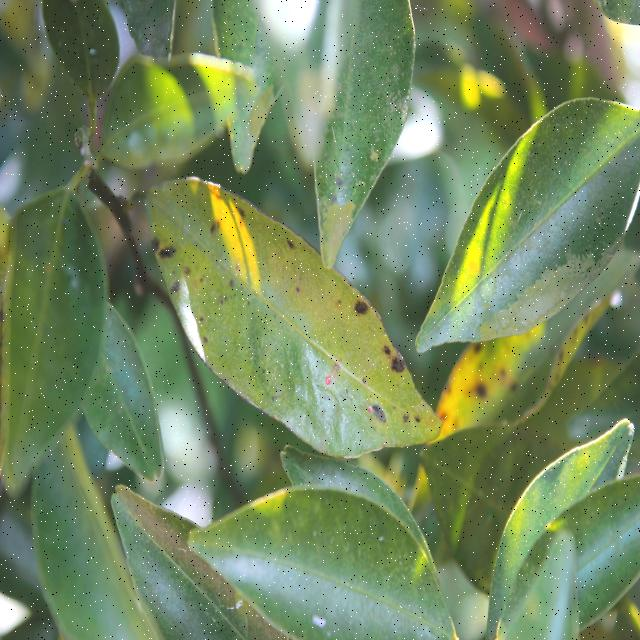melanose: (142, 172, 436, 460), (440, 227, 640, 452)
